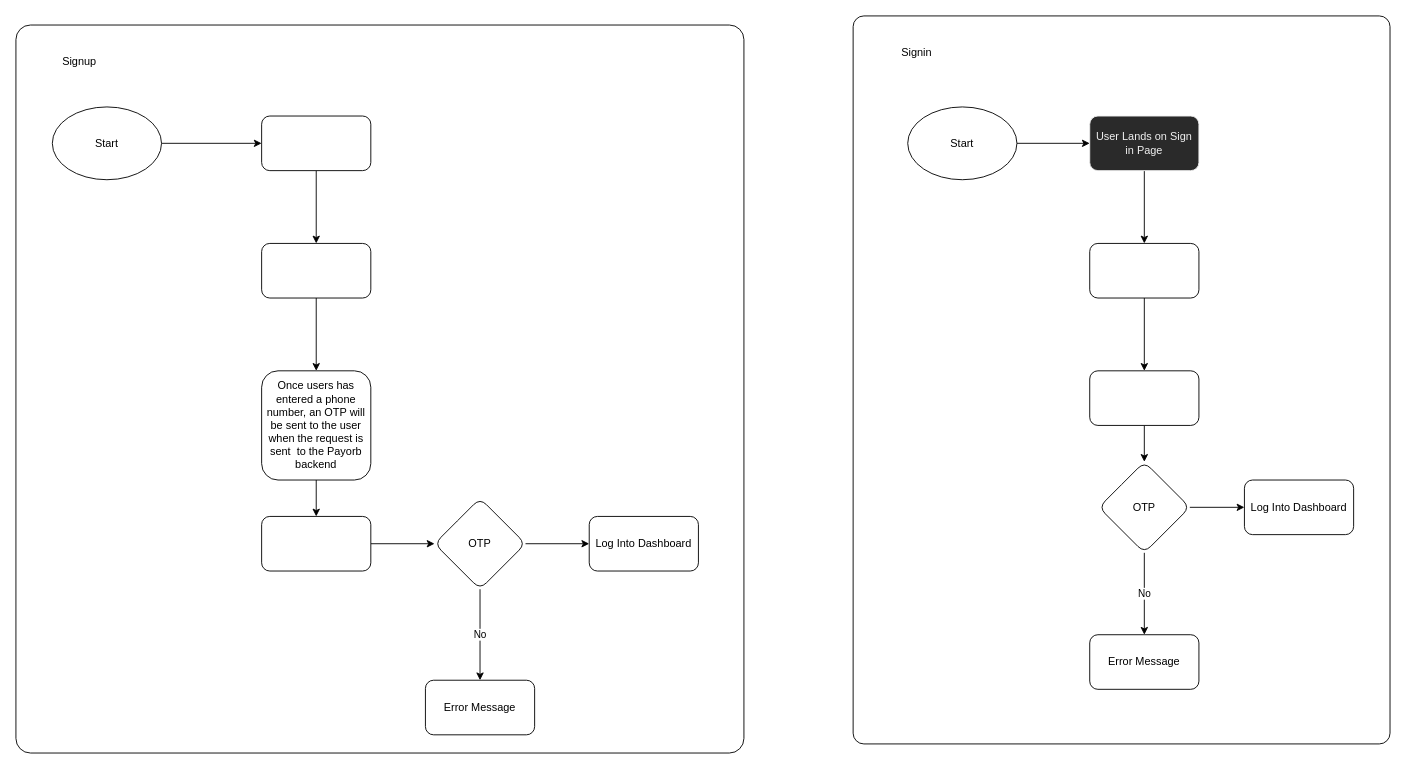
Some shapes in this 1406 by 769 pixel diagram are drawn without their labels. The shapes that lost their labels are listed below. From the top down, each one's box as (x1, y1, x2, y2) in pixels, then its label:
(261, 115, 371, 171): User Lands on SignUp
(261, 243, 371, 298): User fill Details (Phone Number, email and Name as required fields)
(1089, 243, 1199, 298): Enters Phone Number
(1089, 370, 1199, 425): Recieves OTP
(261, 516, 371, 571): User Enters OTP
